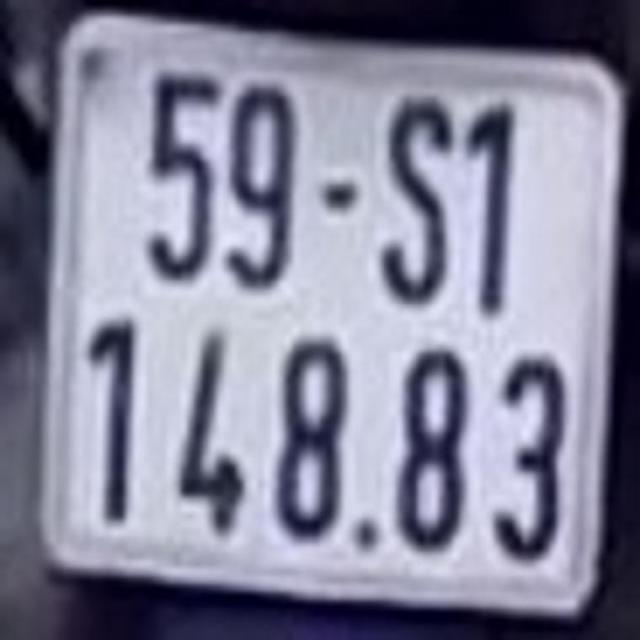1: (452, 65, 541, 322), (72, 293, 162, 532)
3: (488, 328, 580, 571)
4: (171, 296, 256, 541)
5: (140, 52, 223, 287)
8: (391, 322, 476, 548), (273, 312, 351, 555)
9: (216, 49, 304, 297)
S: (372, 70, 455, 310)
